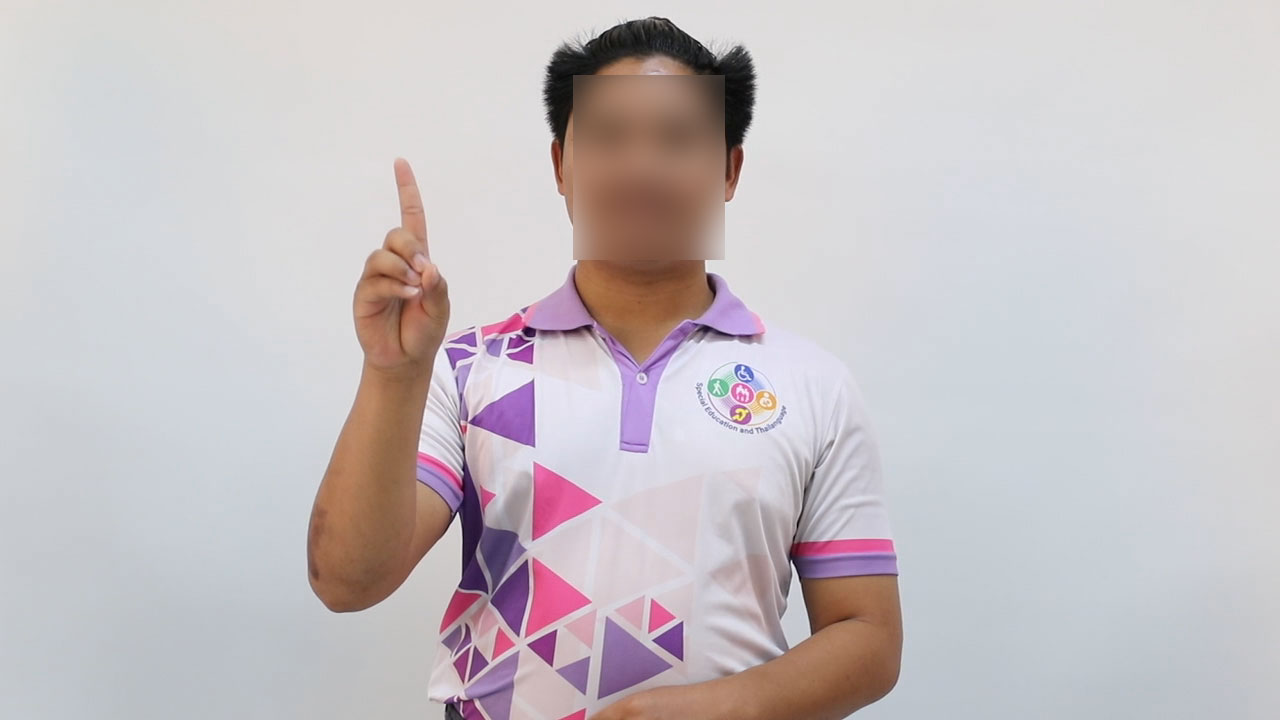dor: (338, 149, 468, 370)
